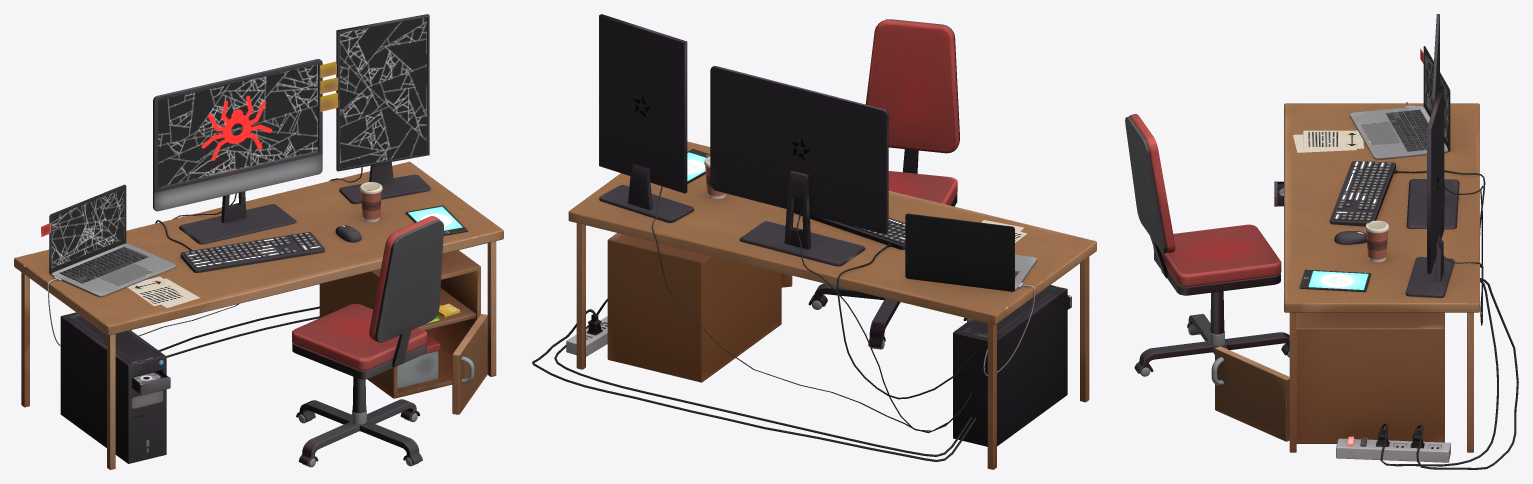
File: 3dpc.glb
The picture shows the model from 3 angles, left to right: view 1: azimuth 30°, elevation 25°; view 2: azimuth 150°, elevation 25°; view 3: azimuth 270°, elevation 25°; orthographic projection. The views are drawn at different scales.
Parts seen in each view (by area): view 1: Final; view 2: Final; view 3: Final.
Boxes of the visible parts, box(x1,y1,x2,y2) form: Final: box(14, 14, 503, 469); Final: box(532, 14, 1096, 469); Final: box(1125, 14, 1518, 469).
Bounding box in the file's own units: 2.36 × 1.64 × 1.81.
1 material, 1 textured.
